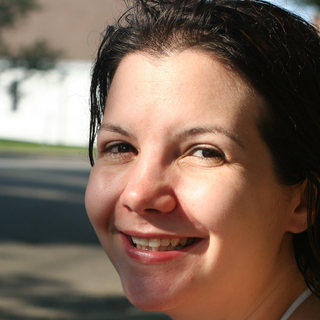eye: (180, 141, 230, 166), (100, 136, 139, 157)
